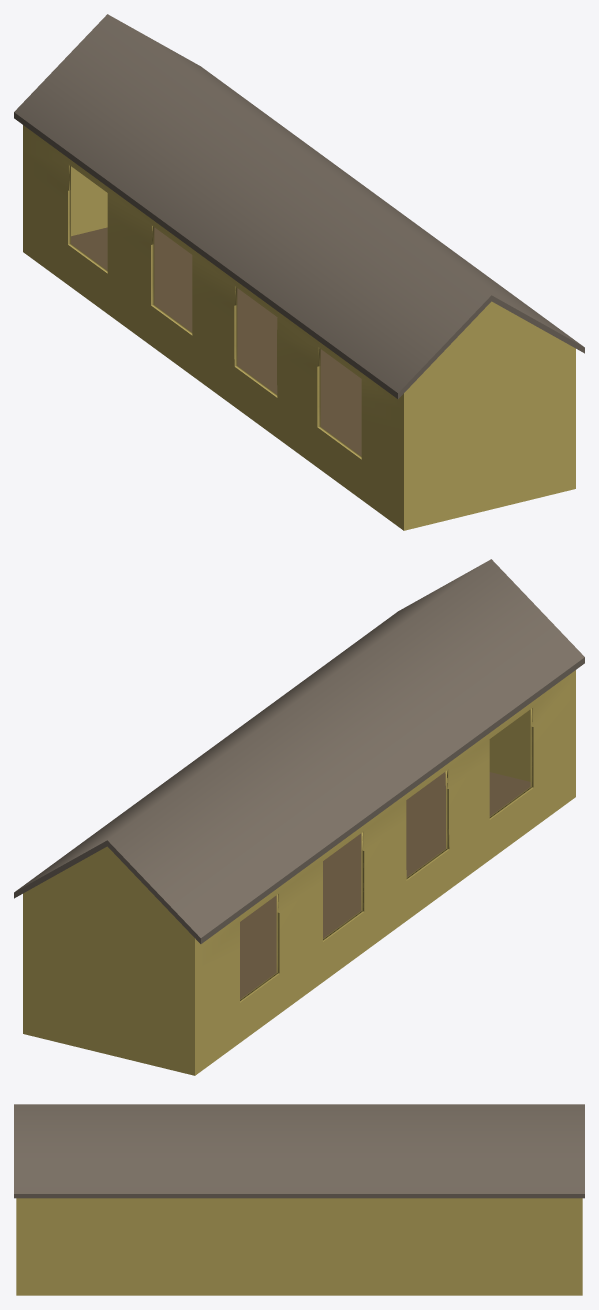
File: House.fbx
3 renders of one model, top to bottom at view 1: azimuth 30°, elevation 25°; view 2: azimuth 150°, elevation 25°; view 3: azimuth 270°, elevation 25°, orthographic. The views are drawn at different scales.
Visible parts, largest first — view 1: House; view 2: House; view 3: House.
Part boxes in pixels (x1,y1,x2,y2): House: [14, 14, 584, 530]; House: [14, 559, 584, 1075]; House: [14, 1104, 584, 1295].
Bounding box in the file's own units: 451 × 498 × 1606.
